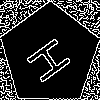H: (25, 30, 80, 86)
